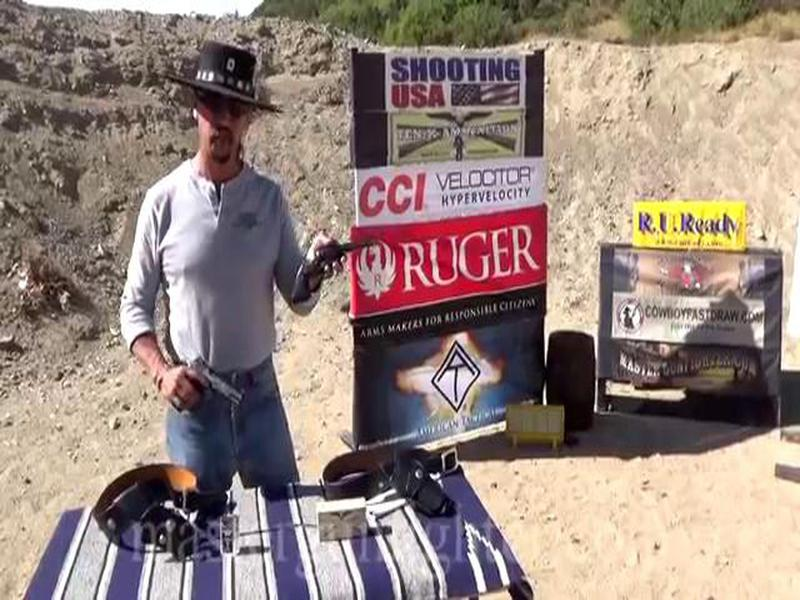Pistola: (164, 347, 252, 428)
Revolver: (290, 234, 382, 314)
